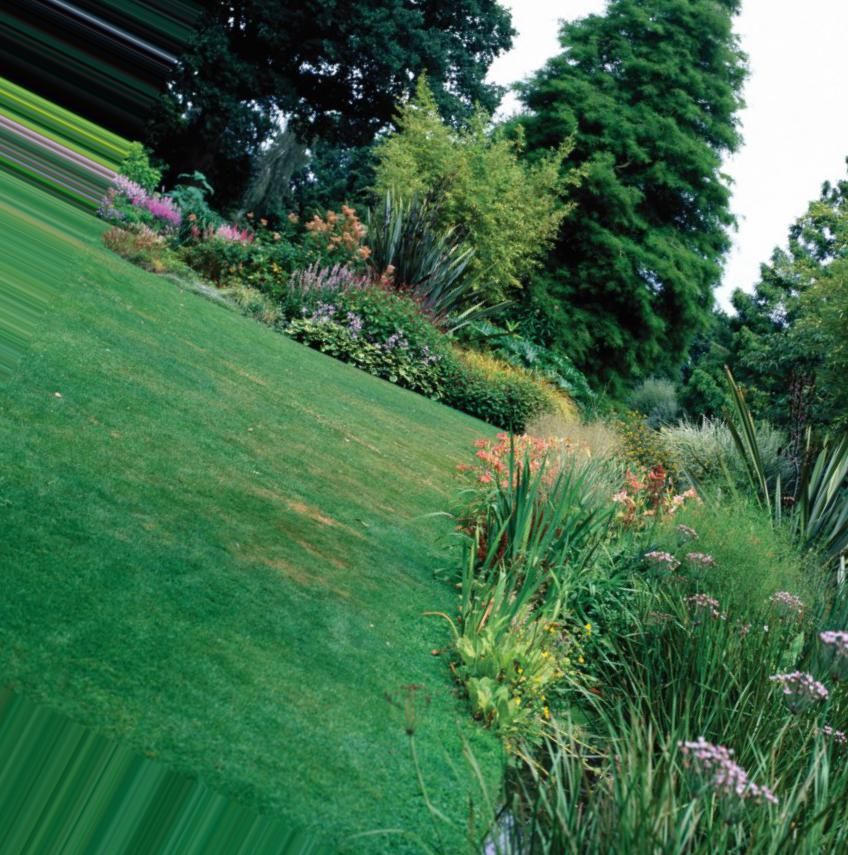patch: (271, 495, 347, 538)
